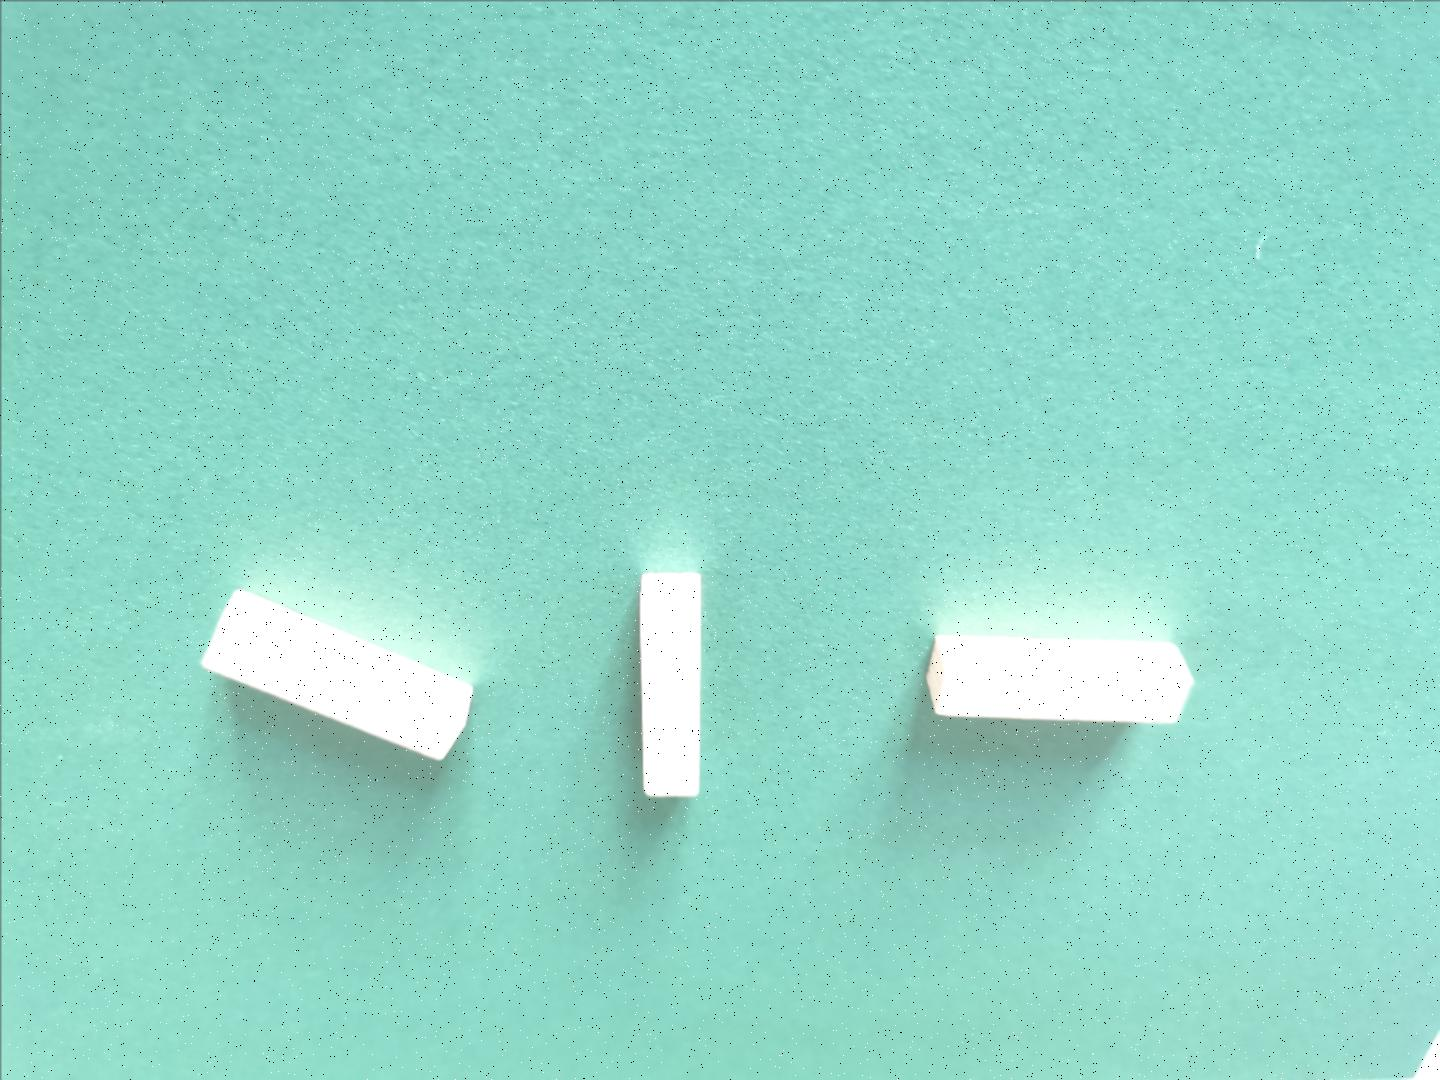jenga: (203, 588, 473, 759), (925, 635, 1189, 723), (638, 571, 701, 796)
